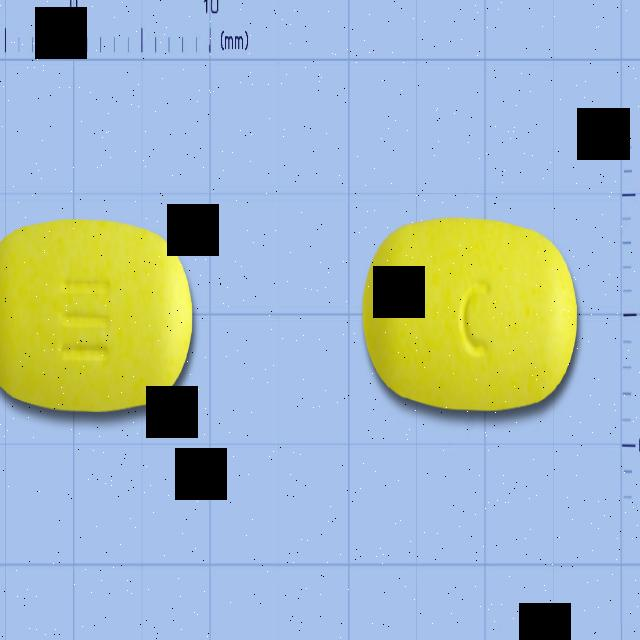Clararoxin: (360, 214, 584, 417), (0, 210, 197, 418)
